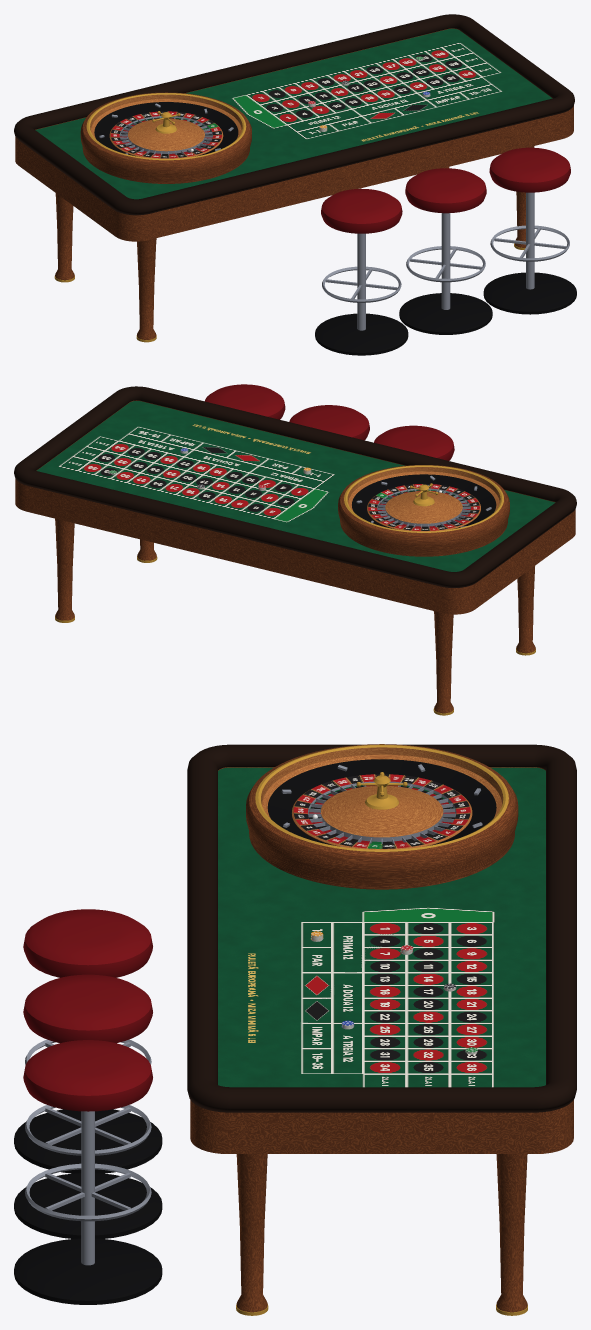
Rendered from ruleta.obj.
3 renders of one model, top to bottom at view 1: azimuth 30°, elevation 25°; view 2: azimuth 150°, elevation 25°; view 3: azimuth 270°, elevation 25°, orthographic. The views are drawn at different scales.
Parts seen in each view (by area): view 1: ruleta_masa, ruleta_roata, rl_scaun_2, rl_scaun_3, rl_scaun_1, ruleta_rotor; view 2: ruleta_masa, ruleta_roata, ruleta_rotor, rl_scaun_3, rl_scaun_1, rl_scaun_2; view 3: ruleta_masa, ruleta_roata, rl_scaun_3, rl_scaun_2, rl_scaun_1, ruleta_rotor.
Boxes of the visible parts, x1,y1,x2,y2 form: ruleta_masa: (14,14,574,342); ruleta_roata: (80,92,251,183); rl_scaun_2: (399,168,492,334); rl_scaun_3: (483,147,576,314); rl_scaun_1: (315,188,408,355); ruleta_rotor: (109,111,223,158); ruleta_masa: (14,386,576,715); ruleta_roata: (338,465,509,556); ruleta_rotor: (367,483,480,531); rl_scaun_3: (205,384,285,419); rl_scaun_1: (374,425,454,460); rl_scaun_2: (289,405,369,440); ruleta_masa: (187,744,576,1315); ruleta_roata: (246,744,518,889); rl_scaun_3: (14,1040,162,1304); rl_scaun_2: (14,974,162,1238); rl_scaun_1: (14,909,162,1173); ruleta_rotor: (292,772,472,849).
Bounding box in the file's own units: 2.72 × 1.02 × 1.82.
Materials: 13 (6 with a texture image).
